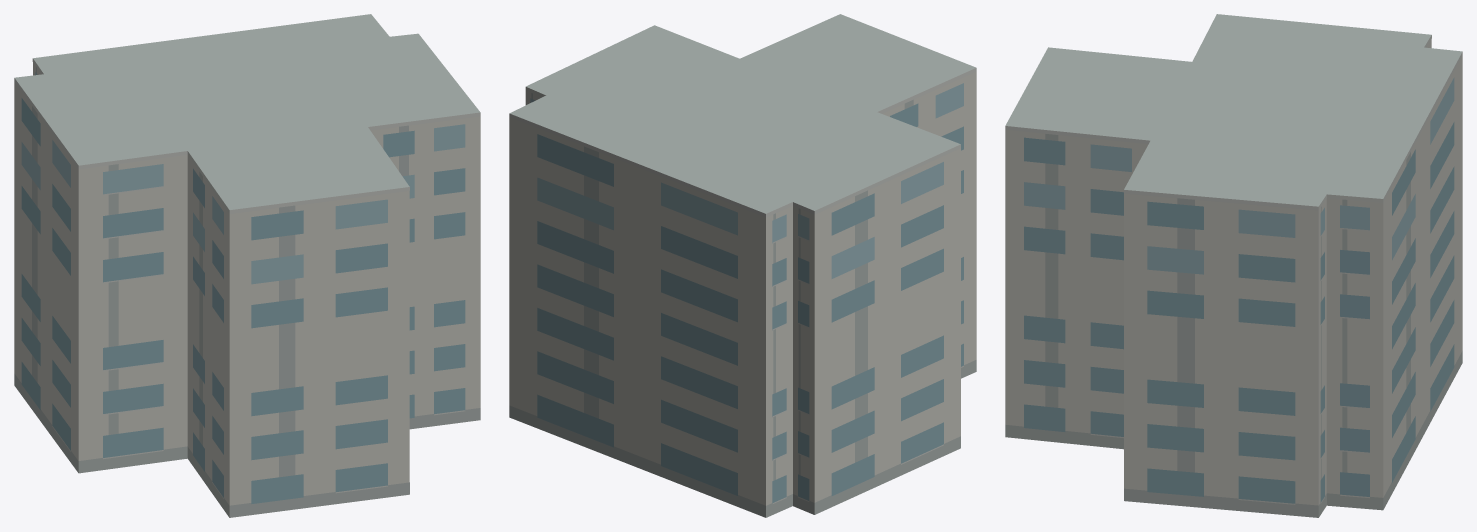
Rendered from survey-upis-32952467.glb.
3 renders of one model, left to right at view 1: azimuth 30°, elevation 25°; view 2: azimuth 150°, elevation 25°; view 3: azimuth 270°, elevation 25°, orthographic. The views are drawn at different scales.
Parts seen in each view (by area): view 1: survey-upis-32952467.tmp; view 2: survey-upis-32952467.tmp; view 3: survey-upis-32952467.tmp.
Part boxes in pixels (x1=…): survey-upis-32952467.tmp: x1=14, y1=14, x2=480, y2=517; survey-upis-32952467.tmp: x1=509, y1=14, x2=976, y2=517; survey-upis-32952467.tmp: x1=1005, y1=14, x2=1462, y2=517.
Bounding box in the file's own units: 26.29 × 19.8 × 26.38.
